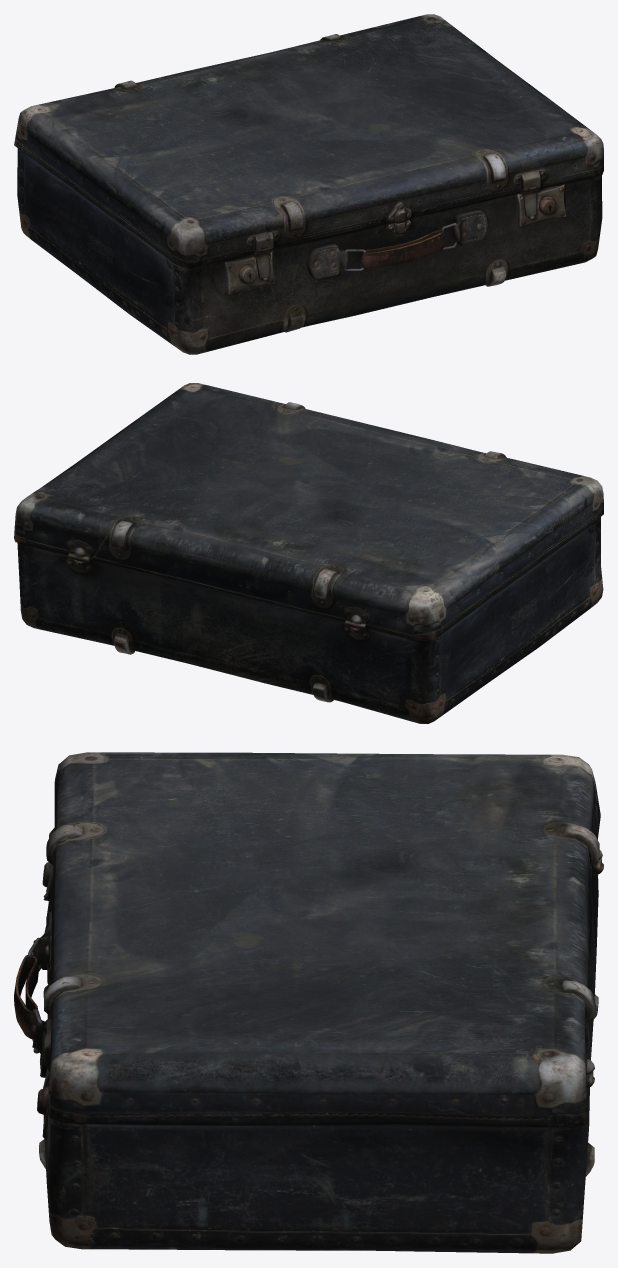
File: Old_Suitcase.fbx
The picture shows the model from 3 angles, top to bottom: view 1: azimuth 30°, elevation 25°; view 2: azimuth 150°, elevation 25°; view 3: azimuth 270°, elevation 25°; orthographic projection. The views are drawn at different scales.
Parts seen in each view (by area): view 1: Old_Suitcase; view 2: Old_Suitcase; view 3: Old_Suitcase.
Part boxes in pixels (left/top/right/bottom): Old_Suitcase: left=14, top=14, right=603, bottom=354; Old_Suitcase: left=14, top=383, right=603, bottom=723; Old_Suitcase: left=14, top=752, right=603, bottom=1253.
Bounding box in the file's own units: 79.97 × 24.31 × 62.43.
